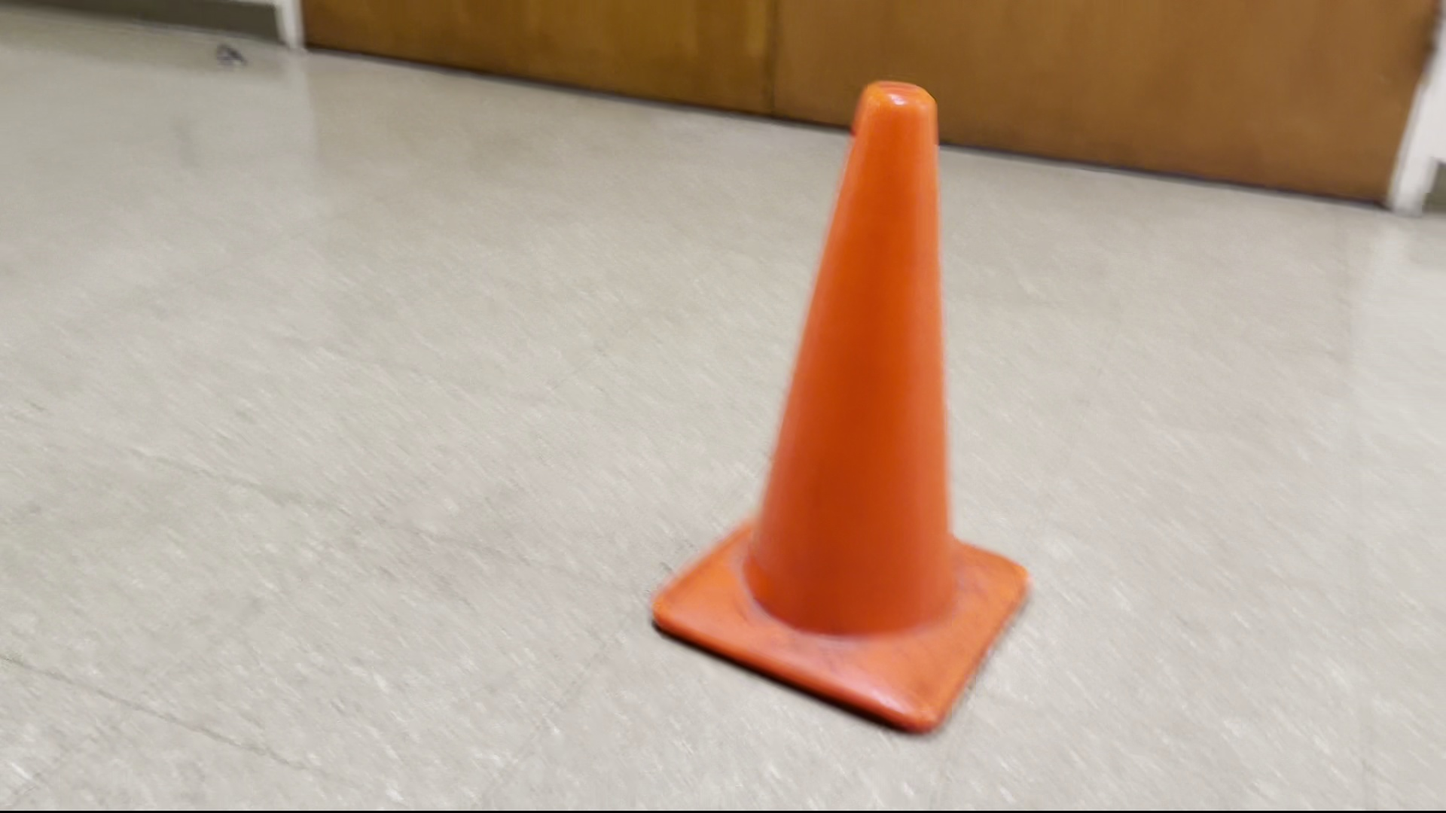traffic_cone: (650, 78, 1031, 736)
